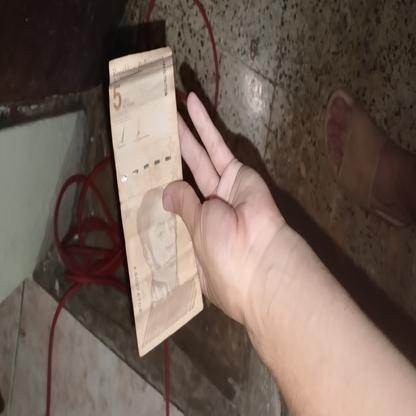five-front-vef: (108, 46, 204, 357)
